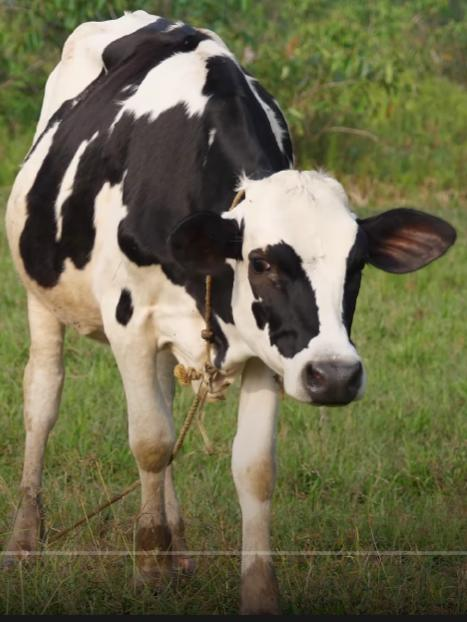cow: (5, 11, 459, 622)
